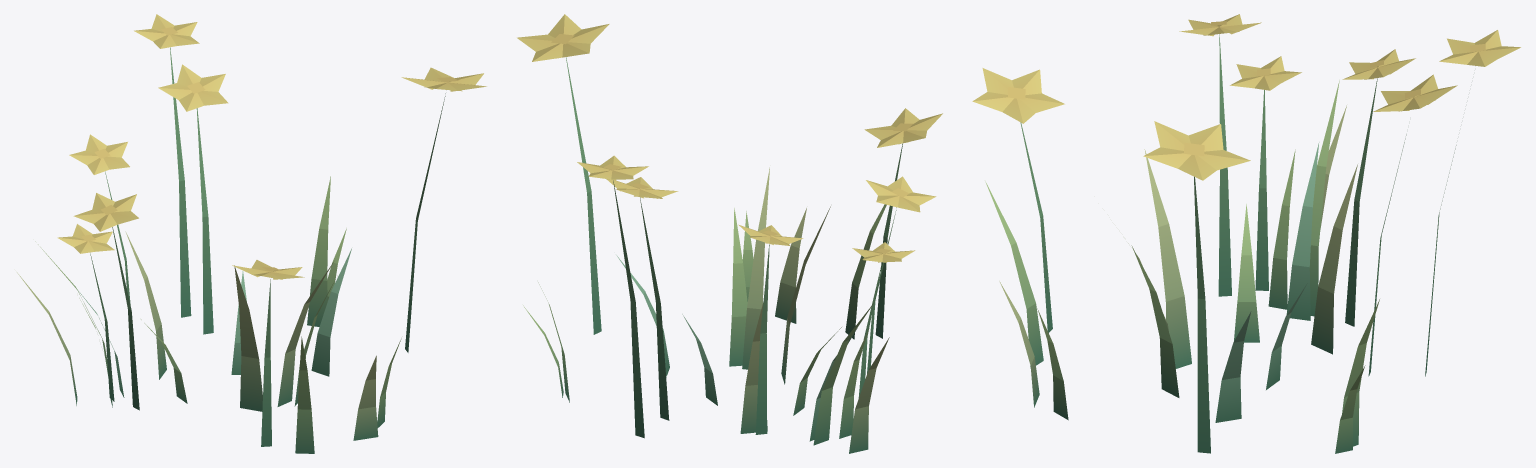
Rendered from SM_GR_Flowers_Yellow.fbx.
3 views of the same model, side by side, from view 1: azimuth 30°, elevation 25°; view 2: azimuth 150°, elevation 25°; view 3: azimuth 270°, elevation 25° (orthographic). The views are drawn at different scales.
Visible parts, largest first — view 1: SM_GR_Flowers_Yellow; view 2: SM_GR_Flowers_Yellow; view 3: SM_GR_Flowers_Yellow.
Boxes of the visible parts, x1,y1,x2,y2 form: SM_GR_Flowers_Yellow: (17, 14, 486, 453); SM_GR_Flowers_Yellow: (517, 14, 942, 453); SM_GR_Flowers_Yellow: (972, 14, 1520, 453).
Size of the model in its own units: 77.11 by 51.23 by 72.72.
